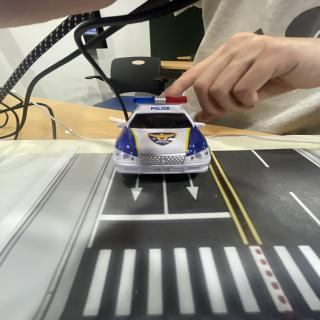Police_car: (113, 97, 210, 174)
